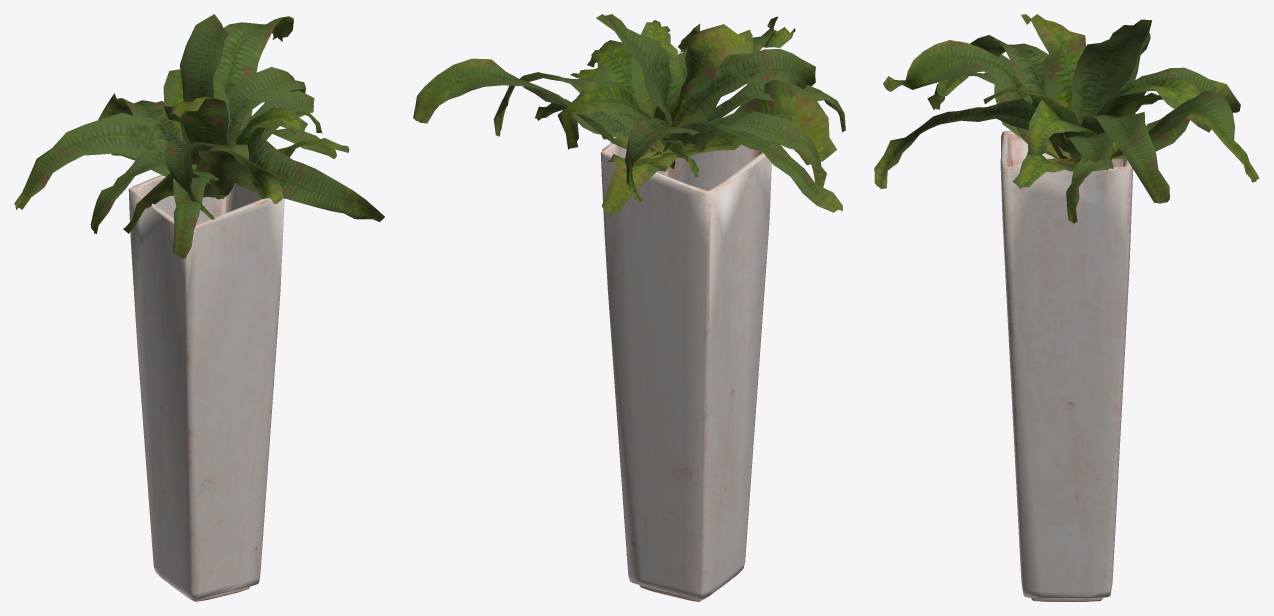
Rendered from plant-fern.glb.
3 renders of one model, left to right at view 1: azimuth 30°, elevation 25°; view 2: azimuth 150°, elevation 25°; view 3: azimuth 270°, elevation 25°, orthographic. The views are drawn at different scales.
Parts seen in each view (by area): view 1: ceramic_vase_03, fern_02_b; view 2: ceramic_vase_03, fern_02_b; view 3: ceramic_vase_03, fern_02_b.
Part boxes in pixels (x1,y1,x2,y2): ceramic_vase_03: (128,175,284,601); fern_02_b: (14,14,384,258); ceramic_vase_03: (600,143,771,601); fern_02_b: (413,14,845,215); ceramic_vase_03: (1000,131,1133,601); fern_02_b: (874,14,1259,223).
Bounding box in the file's own units: 0.3592 × 0.5489 × 0.3243.
2 materials, 2 textured.
